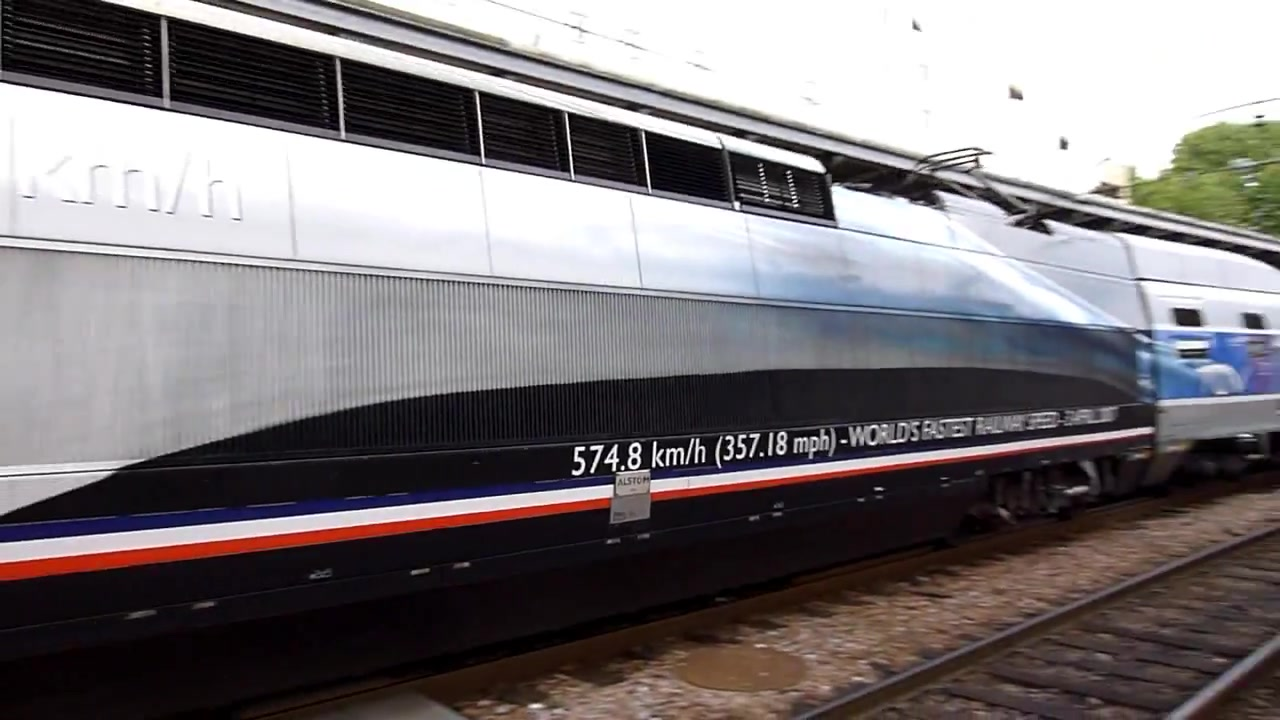train: (1, 1, 1280, 665)
